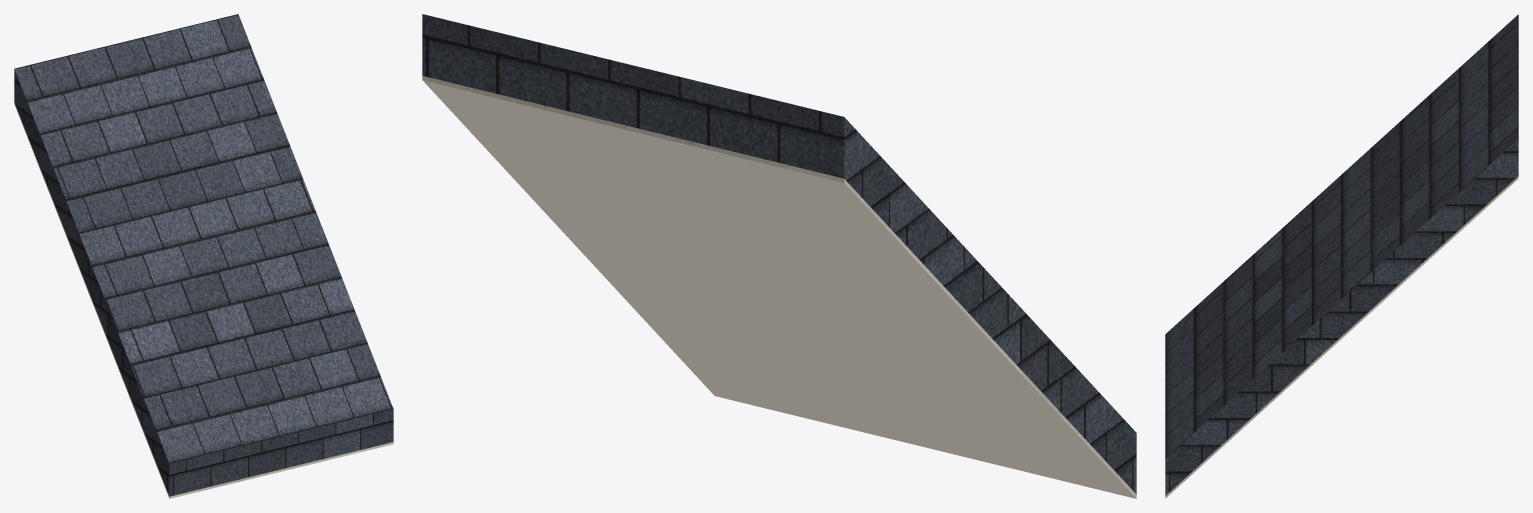
The model's file is garage_roof.glb.
The picture shows the model from 3 angles, left to right: view 1: azimuth 30°, elevation 25°; view 2: azimuth 150°, elevation 25°; view 3: azimuth 270°, elevation 25°; orthographic projection. The views are drawn at different scales.
Visible parts, largest first — view 1: garage_roof_shingle, garage_roof_plaster; view 2: garage_roof_plaster, garage_roof_shingle; view 3: garage_roof_shingle, garage_roof_plaster.
Boxes of the visible parts, bbox=[...] form: garage_roof_shingle: bbox=[14, 14, 393, 496]; garage_roof_plaster: bbox=[14, 102, 393, 498]; garage_roof_plaster: bbox=[422, 76, 1136, 498]; garage_roof_shingle: bbox=[422, 14, 1136, 494]; garage_roof_shingle: bbox=[1165, 14, 1518, 495]; garage_roof_plaster: bbox=[1165, 176, 1518, 498].
Size of the model in its own units: 2 by 2.7 by 2.4.
Materials: 2 (2 with a texture image).
